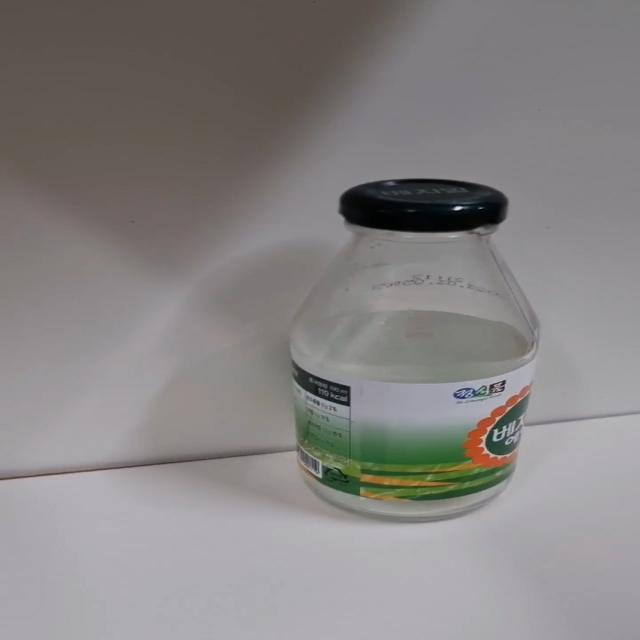Glass: (283, 169, 550, 522)
